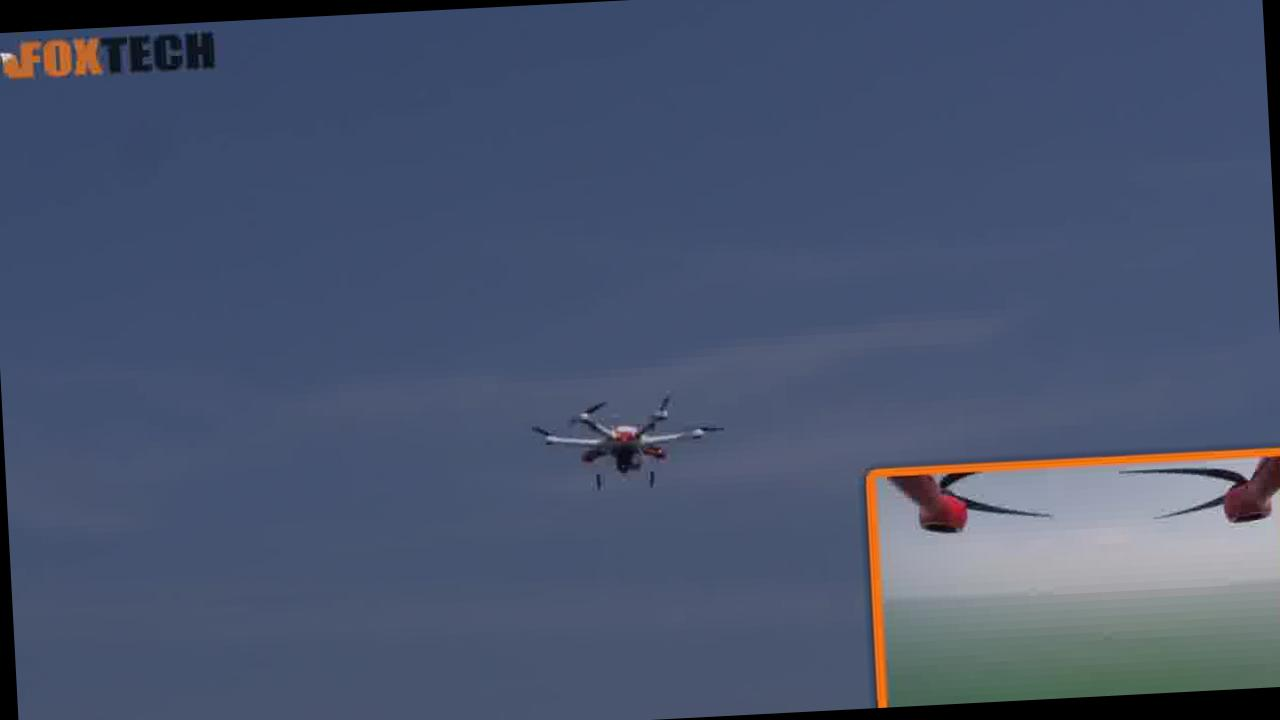drone: (520, 384, 728, 489)
